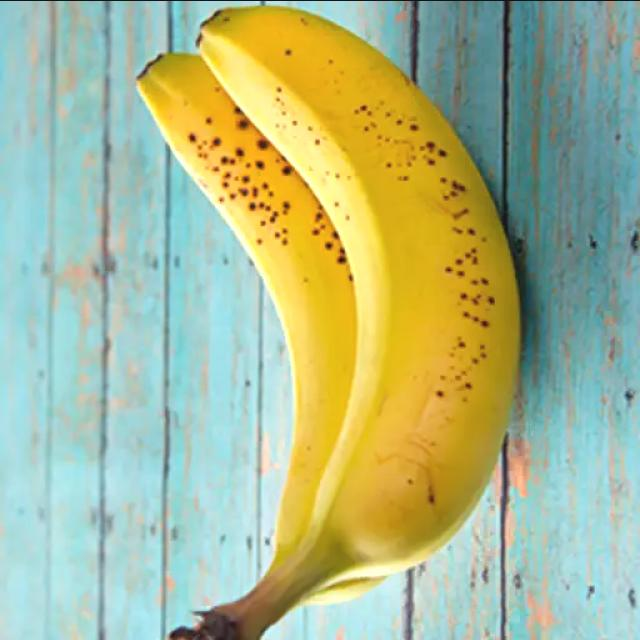banana: (129, 2, 526, 640)
